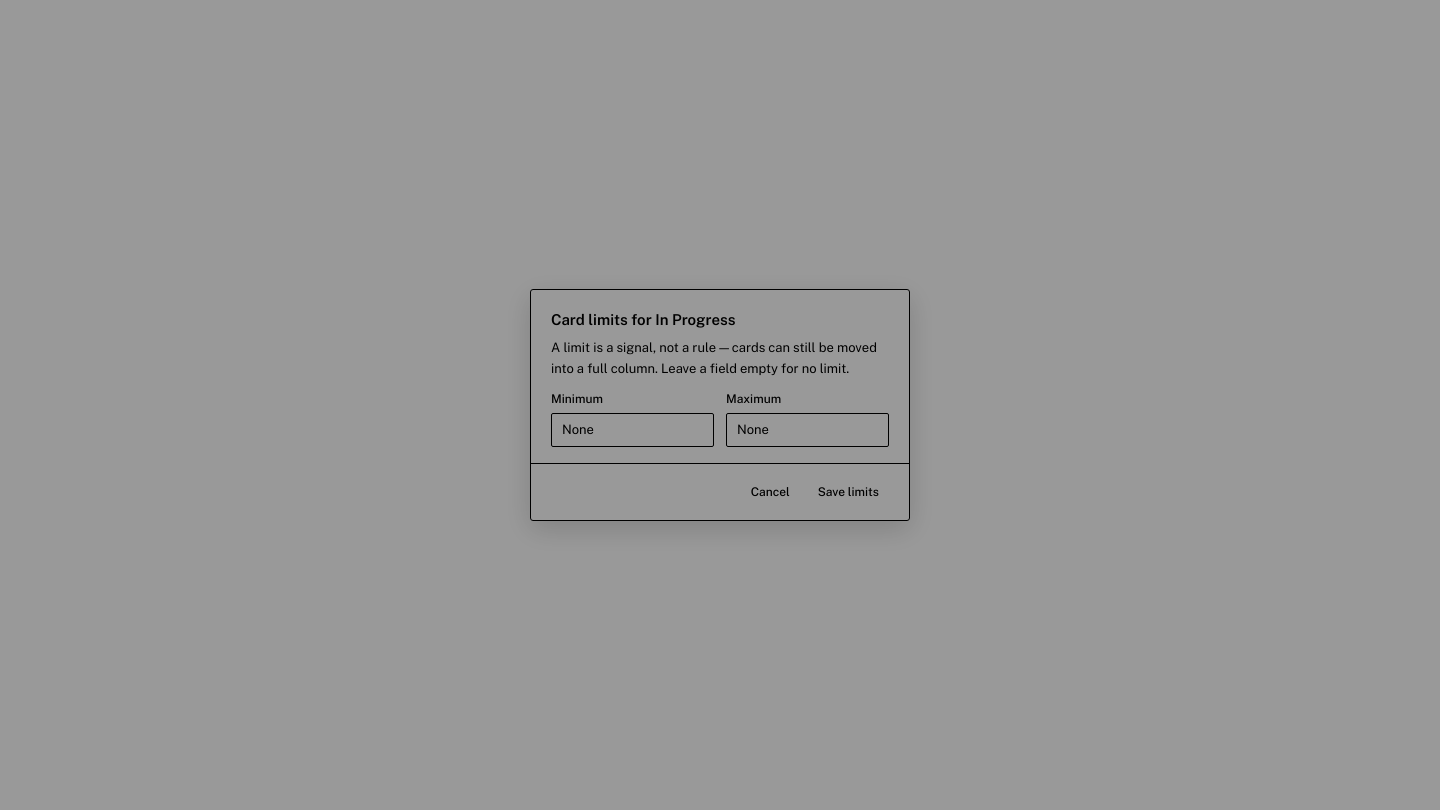
Test: ColumnLimitDialog › cannot be given a negative number at all
In the field labelled "Maximum": (808, 430) x1=726 y1=413 x2=889 y2=447, type "-3"
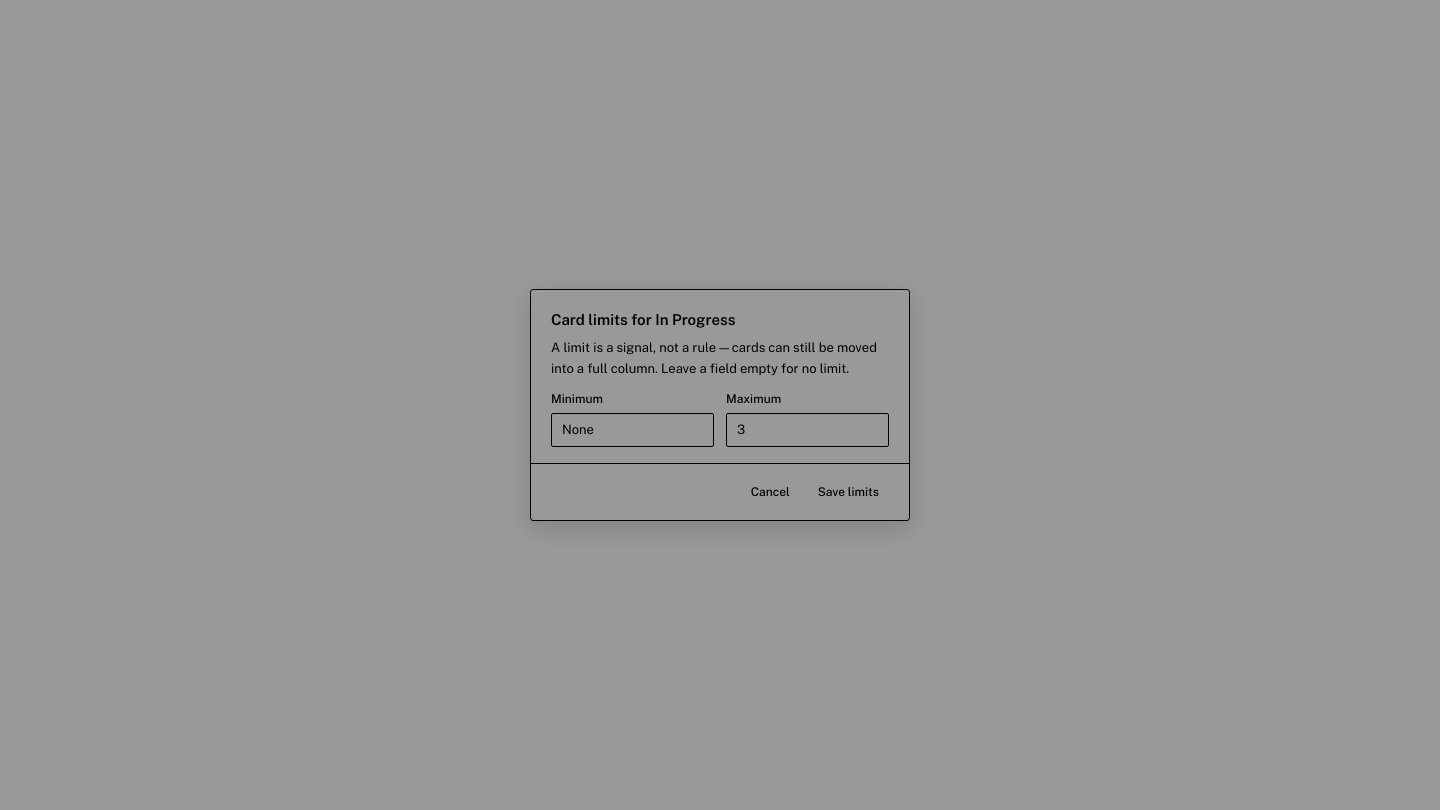
Now the field labelled "Maximum" holds "3", box x1=726 y1=413 x2=889 y2=447
